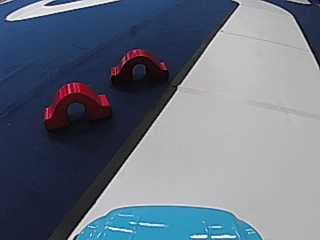bridge: (38, 78, 114, 128), (108, 43, 170, 88)
